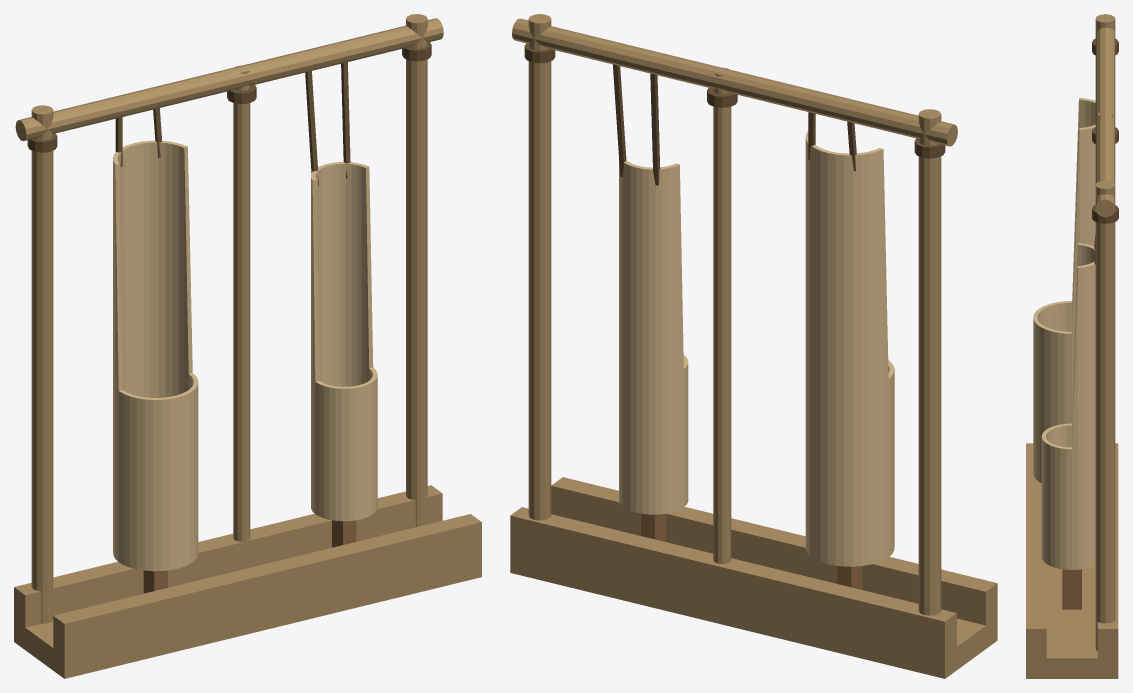
The picture shows the model from 3 angles, left to right: view 1: azimuth 30°, elevation 25°; view 2: azimuth 150°, elevation 25°; view 3: azimuth 270°, elevation 25°; orthographic projection. The views are drawn at different scales.
Parts seen in each view (by area): view 1: WholeGroundFootLowOpenTrough, WholeStoppedSlottedTube_0, WholeStoppedSlottedTube_1, WholeTallSidePost_0, WholeTallSidePost_1, WholeTopCrosspiece, WholeCentralFrameUpright, WholeUpperFixedTie_1_1, WholeUpperFixedTie_1_0; view 2: WholeGroundFootLowOpenTrough, WholeStoppedSlottedTube_0, WholeStoppedSlottedTube_1, WholeTallSidePost_0, WholeTallSidePost_1, WholeTopCrosspiece, WholeCentralFrameUpright, WholeUpperFixedTie_1_0, WholeUpperFixedTie_1_1; view 3: WholeStoppedSlottedTube_1, WholeGroundFootLowOpenTrough, WholeTallSidePost_1, WholeStoppedSlottedTube_0, WholeTopCrosspiece, WholeLowerLocatingStem_1, WholeTallSidePost_0, WholeFrameBinding_2.
Boxes of the visible parts, x1,y1,x2,y2 form: WholeGroundFootLowOpenTrough: (14,485,481,678); WholeStoppedSlottedTube_0: (113,140,198,571); WholeStoppedSlottedTube_1: (311,162,377,521); WholeTallSidePost_0: (31,105,53,623); WholeTallSidePost_1: (406,14,427,527); WholeTopCrosspiece: (15,18,443,140); WholeCentralFrameUpright: (233,65,250,541); WholeUpperFixedTie_1_1: (341,62,350,178); WholeUpperFixedTie_1_0: (305,71,318,185); WholeGroundFootLowOpenTrough: (510,477,997,678); WholeStoppedSlottedTube_0: (805,131,894,566); WholeStoppedSlottedTube_1: (619,160,688,514); WholeTallSidePost_0: (918,109,941,615); WholeTallSidePost_1: (528,14,551,520); WholeTopCrosspiece: (512,18,957,146); WholeCentralFrameUpright: (713,67,731,563); WholeUpperFixedTie_1_0: (650,73,660,185); WholeUpperFixedTie_1_1: (613,64,626,176); WholeStoppedSlottedTube_1: (1041,243,1095,569); WholeGroundFootLowOpenTrough: (1026,443,1118,678); WholeTallSidePost_1: (1095,180,1115,650); WholeStoppedSlottedTube_0: (1033,98,1095,483); WholeTopCrosspiece: (1095,14,1115,217); WholeLowerLocatingStem_1: (1062,569,1081,609); WholeTallSidePost_0: (1095,14,1115,31); WholeFrameBinding_2: (1092,205,1118,223).
Size of the model in its own units: 0.62 by 0.755 by 0.131.
